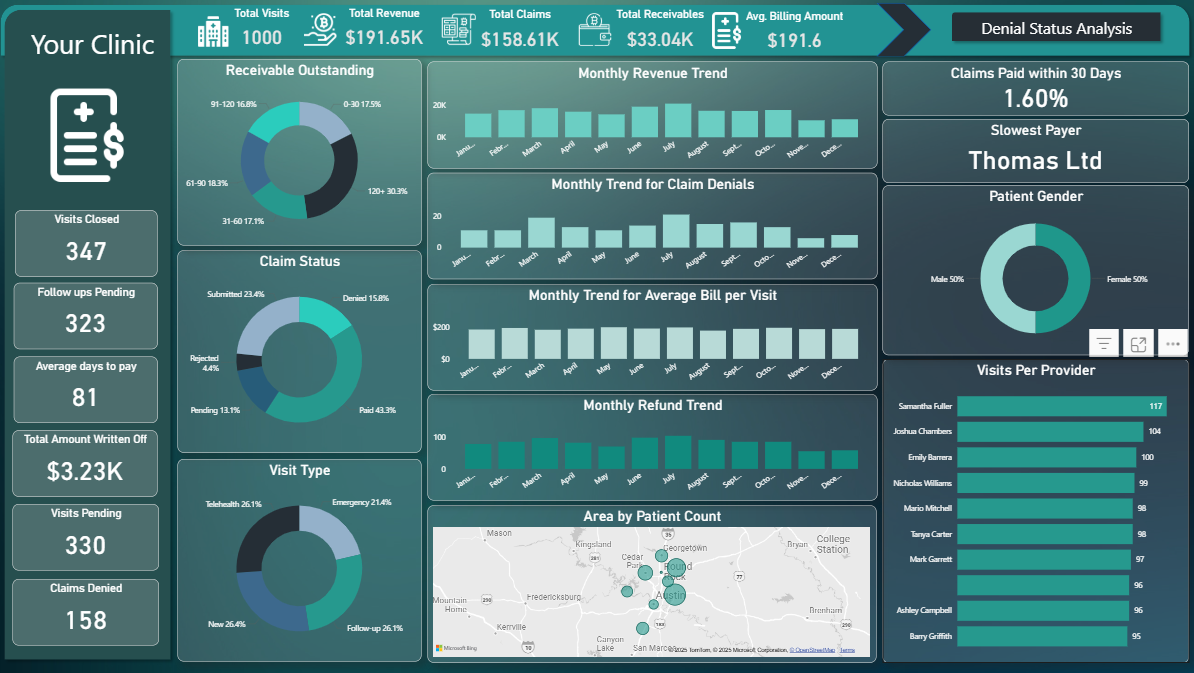

The page's visual inventory and layout, read from the dashboard file:
{"tool":"powerbi","page":{"name":"Overview","canvas":[1920,1080],"ordinal":0},"visuals":[{"type":"shape","box":[0,0,1920,99.8],"z":1000},{"type":"card","title":"Total Visits","fields":{"Values":["medical_billing_dataset_primarycare_with_names.Visit_ID"]},"box":[333.6,12.8,185.7,78.6],"z":2000},{"type":"card","title":"Avg. Billing Amount","fields":{"Values":["medical_billing_dataset_primarycare_with_names.Average Per Visit"]},"box":[1147.9,15.6,262.9,81.4],"z":3000},{"type":"shape","box":[6,8,284,1058],"z":4000},{"type":"donutChart","title":" Claim Status","fields":{"Y":["medical_billing_dataset_primarycare_with_names.Claim_Status"],"Series":["medical_billing_dataset_primarycare_with_names.Claim_Status"]},"box":[292.9,401.4,390,324.3],"z":5000},{"type":"card","title":"Total Claims","fields":{"Values":["medical_billing_dataset_primarycare_with_names.Total Claims"]},"box":[720.8,14.2,240,80],"z":6000},{"type":"card","title":"Total Receivables","fields":{"Values":["medical_billing_dataset_primarycare_with_names.Total Receivable"]},"box":[959.4,14.2,208.6,81.4],"z":7000},{"type":"donutChart","title":"Receivable Outstanding","fields":{"Y":["medical_billing_dataset_primarycare_with_names.AR_Bucket"],"Series":["medical_billing_dataset_primarycare_with_names.AR_Bucket"]},"box":[292.9,95.7,390,298.6],"z":8000},{"type":"image","box":[710.8,1.4,64.3,92.9],"z":9000},{"type":"image","box":[320.8,21.4,58.6,60],"z":10000},{"type":"card","title":"Total Revenue","fields":{"Values":["medical_billing_dataset_primarycare_with_names.Total Revenue"]},"box":[550.8,12.8,145.7,80],"z":11000},{"type":"image","box":[917.9,17.1,84.3,61.4],"z":12000},{"type":"image","box":[460.8,18.5,120,61.4],"z":13000},{"type":"image","box":[20,128,244,180],"z":14000},{"type":"donutChart","title":"Visit Type","fields":{"Series":["medical_billing_dataset_primarycare_with_names.Visit_Type"],"Y":["medical_billing_dataset_primarycare_with_names.Visit_Type"]},"box":[292.9,735.7,390,324.3],"z":15000},{"type":"image","box":[1129.4,11.4,77.1,77.1],"z":16000},{"type":"card","title":"Visits Pending","fields":{"Values":["medical_billing_dataset_primarycare_with_names.FollowUp_Status"]},"box":[28,808,234,106],"z":17000},{"type":"card","title":"Visits Closed","fields":{"Values":["medical_billing_dataset_primarycare_with_names.FollowUp_Status"]},"box":[32,338,228,106],"z":18000},{"type":"card","title":"Follow ups Pending","fields":{"Values":["medical_billing_dataset_primarycare_with_names.FollowUp_Status"]},"box":[30,454,230,106],"z":19000},{"type":"card","title":"Average days to pay","fields":{"Values":["medical_billing_dataset_primarycare_with_names.Average days to pay after claim"]},"box":[30,572,230,106],"z":20000},{"type":"map","title":"Area by Patient Count","fields":{"Series":["medical_billing_dataset_primarycare_with_names.Locations"],"Size":["medical_billing_dataset_primarycare_with_names.Locations"],"Category":["medical_billing_dataset_primarycare_with_names.Locations"]},"box":[692,810,718,252],"z":21000},{"type":"card","title":"Total Amount Written Off","fields":{"Values":["medical_billing_dataset_primarycare_with_names.Total_Writeoff_Amount"]},"box":[28,690,232,106],"z":22000},{"type":"clusteredColumnChart","title":"Average Bill per Month","fields":{"Category":["medical_billing_dataset_primarycare_with_names.Visit_Month_Start.Variation.Date Hierarchy.Month"],"Y":["medical_billing_dataset_primarycare_with_names.Average Per Visit"]},"box":[692,632,720,170],"z":23000},{"type":"clusteredColumnChart","title":"Monthly Revenue Trend","fields":{"Category":["medical_billing_dataset_primarycare_with_names.Visit_Month_Start.Variation.Date Hierarchy.Month"],"Y":["medical_billing_dataset_primarycare_with_names.Total Billed Amount"]},"box":[691.4,100,720,171.4],"z":24000},{"type":"clusteredColumnChart","title":"Monthly Trend for Average Bill per Visit","fields":{"Category":["medical_billing_dataset_primarycare_with_names.Visit_Month_Start.Variation.Date Hierarchy.Month"],"Y":["medical_billing_dataset_primarycare_with_names.Average Per Visit"]},"box":[691.4,455.7,720,170],"z":25000},{"type":"shape","box":[1522,12,352,64],"z":26000},{"type":"shape","box":[1410,6,88,86],"z":27000},{"type":"card","title":"Claims Denied","fields":{"Values":["medical_billing_dataset_primarycare_with_names.Visit_ID"]},"box":[28,928,234,106],"z":28000},{"type":"clusteredColumnChart","title":"Monthly Trend for Claim Denials","fields":{"Category":["medical_billing_dataset_primarycare_with_names.Visit_Month_Start.Variation.Date Hierarchy.Month"],"Y":["medical_billing_dataset_primarycare_with_names.Denial_Code"]},"box":[691.4,278.6,720,170],"z":29000},{"type":"textbox","box":[30,36,252,82],"z":30000},{"type":"card","title":"Claims Paid within 30 Days","fields":{"Values":["medical_billing_dataset_primarycare_with_names.Claims Paid Within 30 Days %"]},"box":[1420,100,490,86],"z":31000},{"type":"card","title":"Slowest Payer","fields":{"Values":["medical_billing_dataset_primarycare_with_names.Slowest Payer"]},"box":[1420,192.2,490,102.2],"z":32000},{"type":"clusteredBarChart","title":"Visits Per Provider","fields":{"Category":["medical_billing_dataset_primarycare_with_names.Provider_Name"],"Y":["medical_billing_dataset_primarycare_with_names.Visits"]},"box":[1420,576,490,486],"z":33000},{"type":"donutChart","title":"Patient Gender","fields":{"Y":["medical_billing_dataset_primarycare_with_names.Gender"],"Series":["medical_billing_dataset_primarycare_with_names.Gender"]},"box":[1420,298,490,272],"z":34000}]}

Visuals, with their boxes in screenshot pixels (x1, y1, x2, y2), scaled from the page's 1920x1080 canvas onto the 1194x673 screenshot:
shape: left=0, top=0, right=1193, bottom=62
"Total Visits" card: left=207, top=8, right=323, bottom=57
"Avg. Billing Amount" card: left=714, top=10, right=877, bottom=60
shape: left=4, top=5, right=180, bottom=664
" Claim Status" donutChart: left=182, top=250, right=425, bottom=452
"Total Claims" card: left=448, top=9, right=597, bottom=59
"Total Receivables" card: left=597, top=9, right=726, bottom=60
"Receivable Outstanding" donutChart: left=182, top=60, right=425, bottom=246
image: left=442, top=1, right=482, bottom=59
image: left=199, top=13, right=236, bottom=51
"Total Revenue" card: left=343, top=8, right=433, bottom=58
image: left=571, top=11, right=623, bottom=49
image: left=287, top=12, right=361, bottom=50
image: left=12, top=80, right=164, bottom=192
"Visit Type" donutChart: left=182, top=458, right=425, bottom=661
image: left=702, top=7, right=750, bottom=55
"Visits Pending" card: left=17, top=504, right=163, bottom=570
"Visits Closed" card: left=20, top=211, right=162, bottom=277
"Follow ups Pending" card: left=19, top=283, right=162, bottom=349
"Average days to pay" card: left=19, top=356, right=162, bottom=422
"Area by Patient Count" map: left=430, top=505, right=877, bottom=662
"Total Amount Written Off" card: left=17, top=430, right=162, bottom=496
"Average Bill per Month" clusteredColumnChart: left=430, top=394, right=878, bottom=500
"Monthly Revenue Trend" clusteredColumnChart: left=430, top=62, right=878, bottom=169
"Monthly Trend for Average Bill per Visit" clusteredColumnChart: left=430, top=284, right=878, bottom=390
shape: left=946, top=7, right=1165, bottom=47
shape: left=877, top=4, right=932, bottom=57
"Claims Denied" card: left=17, top=578, right=163, bottom=644
"Monthly Trend for Claim Denials" clusteredColumnChart: left=430, top=174, right=878, bottom=280
textbox: left=19, top=22, right=175, bottom=74
"Claims Paid within 30 Days" card: left=883, top=62, right=1188, bottom=116
"Slowest Payer" card: left=883, top=120, right=1188, bottom=183
"Visits Per Provider" clusteredBarChart: left=883, top=359, right=1188, bottom=662
"Patient Gender" donutChart: left=883, top=186, right=1188, bottom=355
